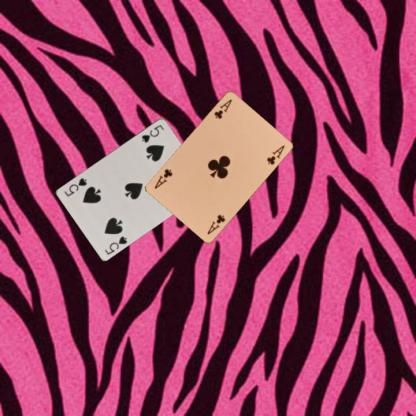5s: (139, 122, 165, 144), (102, 233, 128, 255)
Ac: (212, 97, 234, 120), (204, 212, 226, 235)
